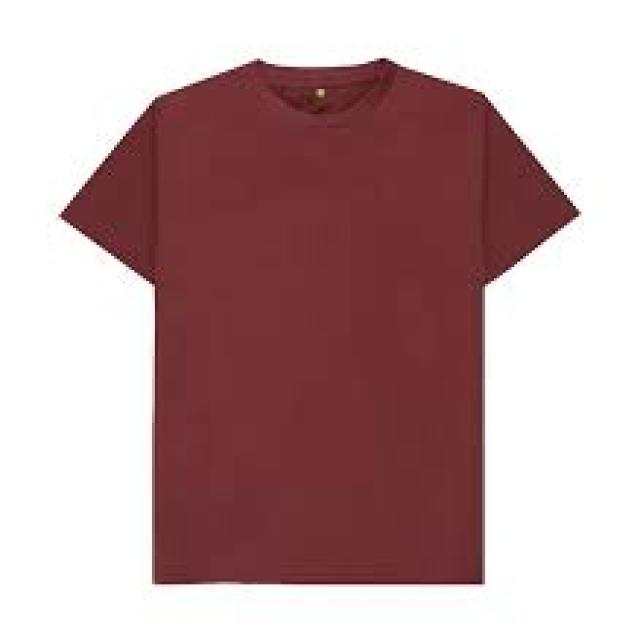shirt: (62, 60, 581, 584)
